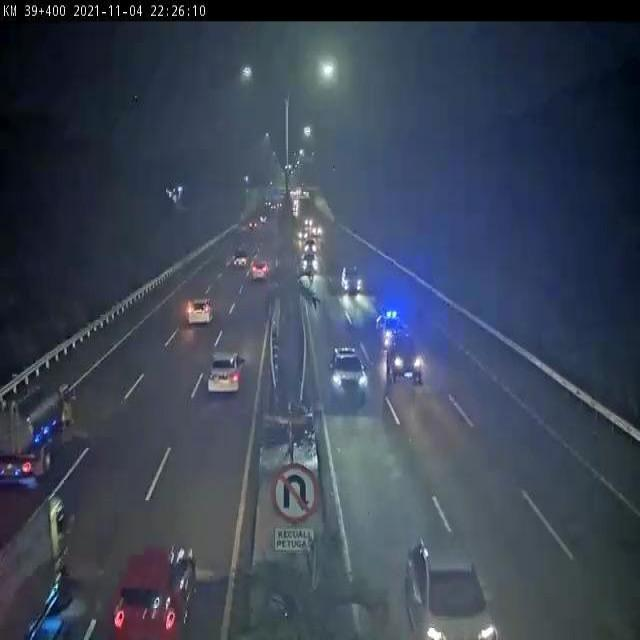car: (407, 537, 499, 640), (111, 546, 198, 640), (331, 343, 370, 396), (386, 340, 424, 383), (206, 352, 241, 396), (374, 308, 412, 339), (189, 294, 213, 326), (341, 262, 360, 290), (411, 488, 413, 489)
truck-l-: (0, 383, 77, 485)
